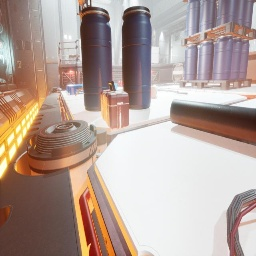0: (151, 84, 158, 98)
EmergencyPhone ,: (17, 59, 21, 68)
FirstAidBox ,: (101, 81, 129, 129), (118, 79, 122, 87)
NitrogenTank ,: (182, 77, 187, 84)
SafetySwitchPanel ,: (120, 39, 122, 50)
